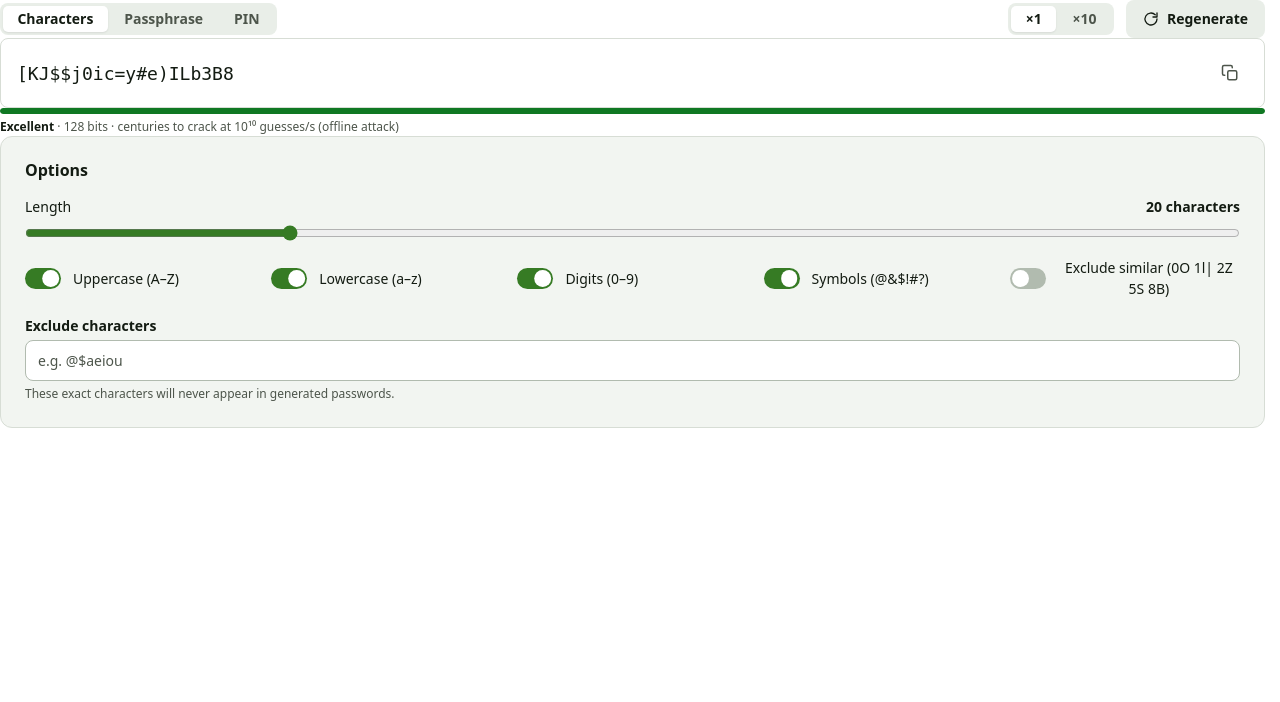
GeneratorView — character mode › generates a batch of 10, each with its own copy button
Step 1. Click the radio button labelled "×10" → [1085, 19], box [1058,6,1111,32]
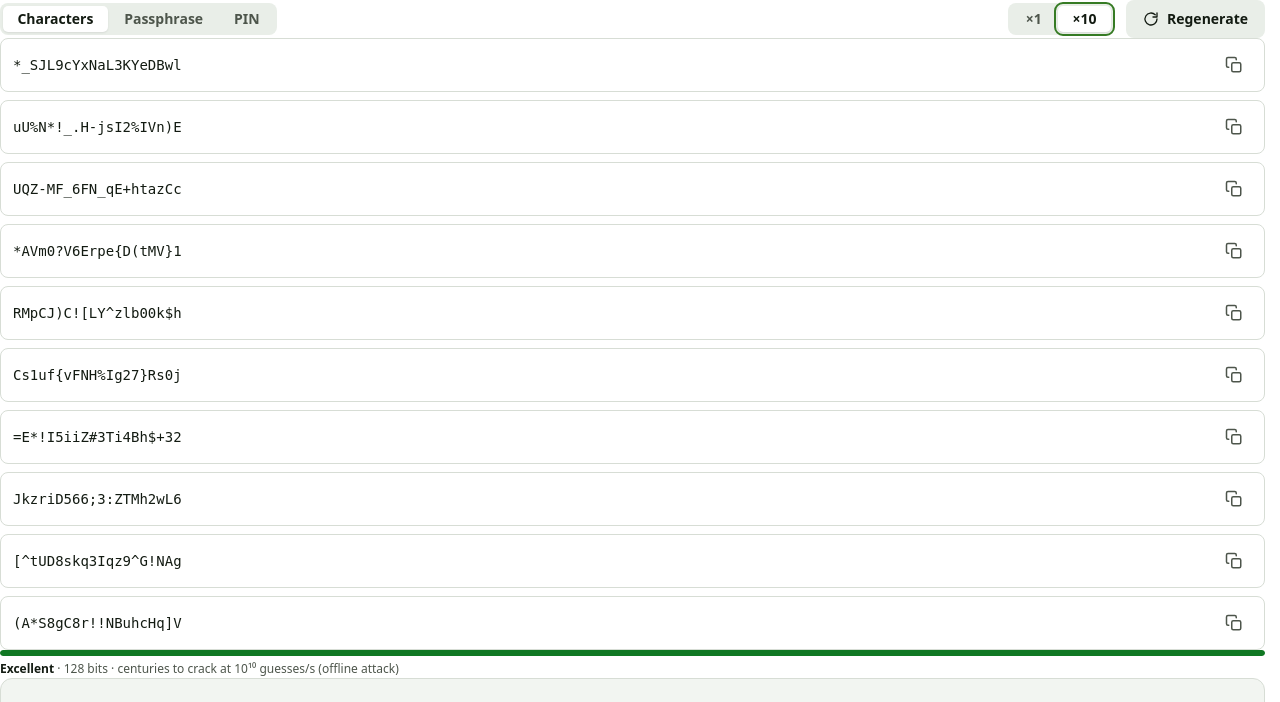
Check: the number of buttons named "copy" is 10
